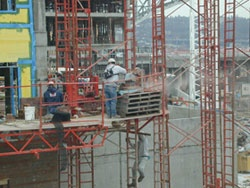white: (107, 58, 116, 65)
